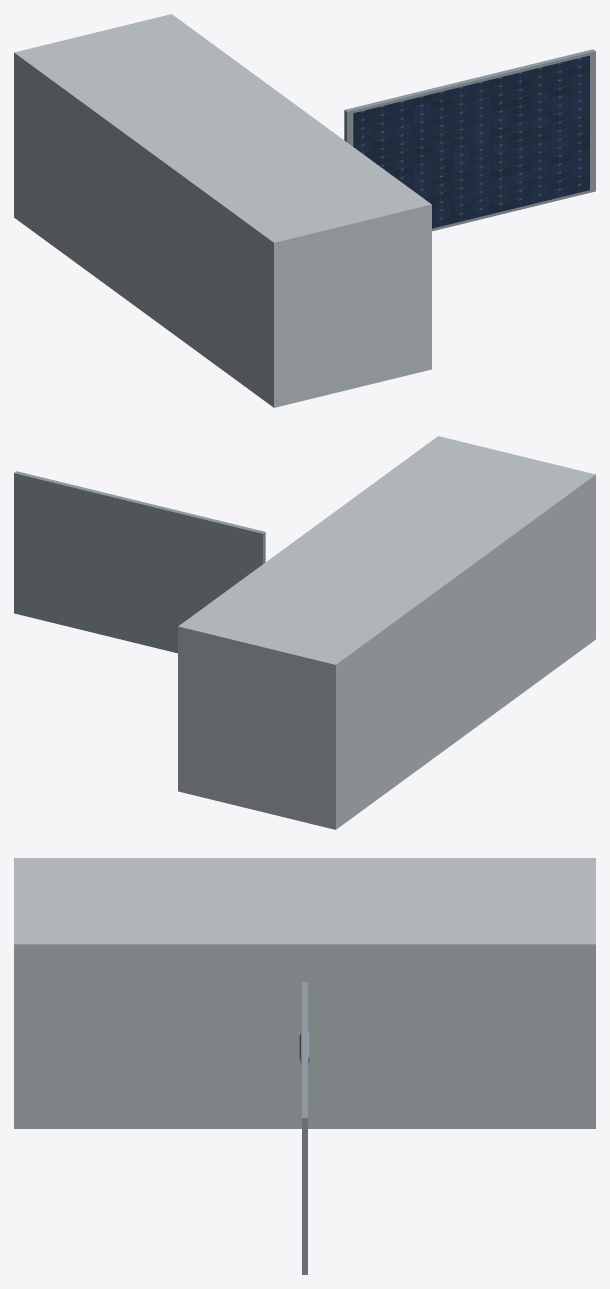
Rendered from ref-csshq-46389.glb.
The picture shows the model from 3 angles, top to bottom: view 1: azimuth 30°, elevation 25°; view 2: azimuth 150°, elevation 25°; view 3: azimuth 270°, elevation 25°; orthographic projection. The views are drawn at different scales.
Visible parts, largest first — view 1: Spacecraft body, Photovoltaic laminates, Array frame; view 2: Spacecraft body, Array frame; view 3: Spacecraft body, Array frame.
Boxes of the visible parts, x1=… form: Spacecraft body: x1=14, y1=14, x2=431, y2=407; Photovoltaic laminates: x1=353, y1=55, x2=589, y2=228; Array frame: x1=344, y1=49, x2=595, y2=231; Spacecraft body: x1=178, y1=436, x2=595, y2=829; Array frame: x1=14, y1=471, x2=265, y2=653; Spacecraft body: x1=14, y1=858, x2=595, y2=1128; Array frame: x1=302, y1=982, x2=307, y2=1274.
Bounding box in the file's own units: 10 × 3.5 × 10.
3 materials, 1 textured.
